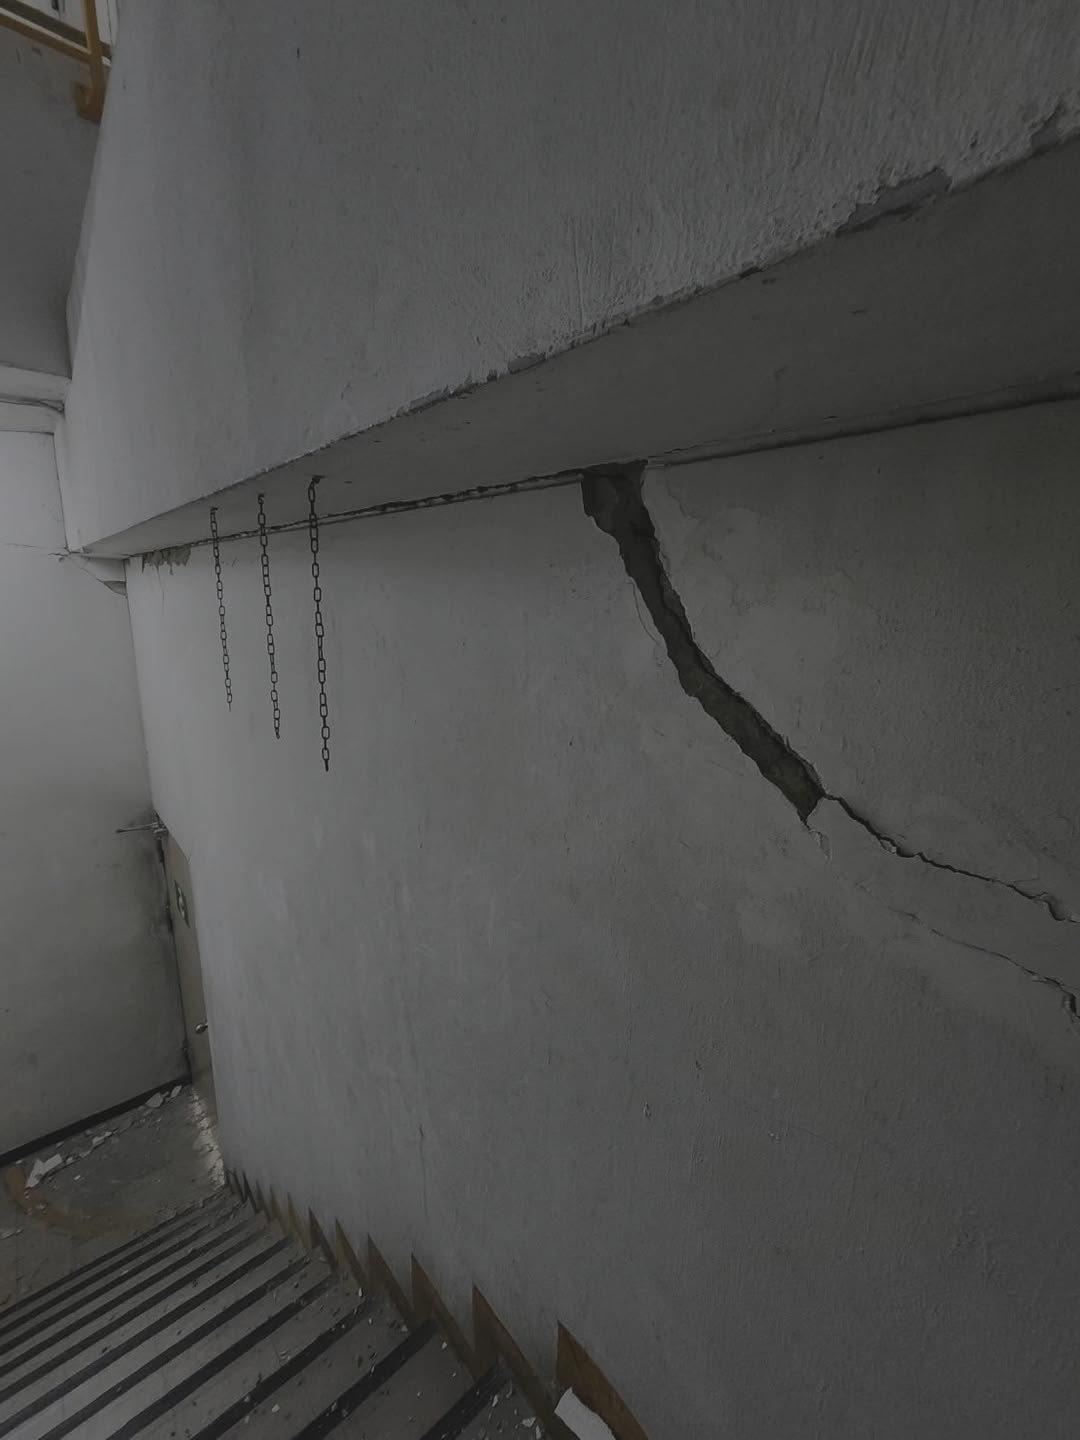High: (356, 448, 1080, 1040)
